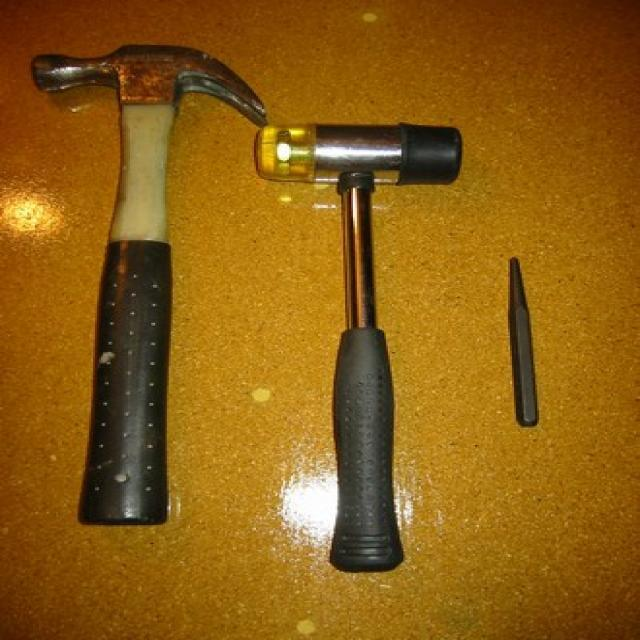hammer: (18, 39, 266, 536), (248, 110, 482, 580)
